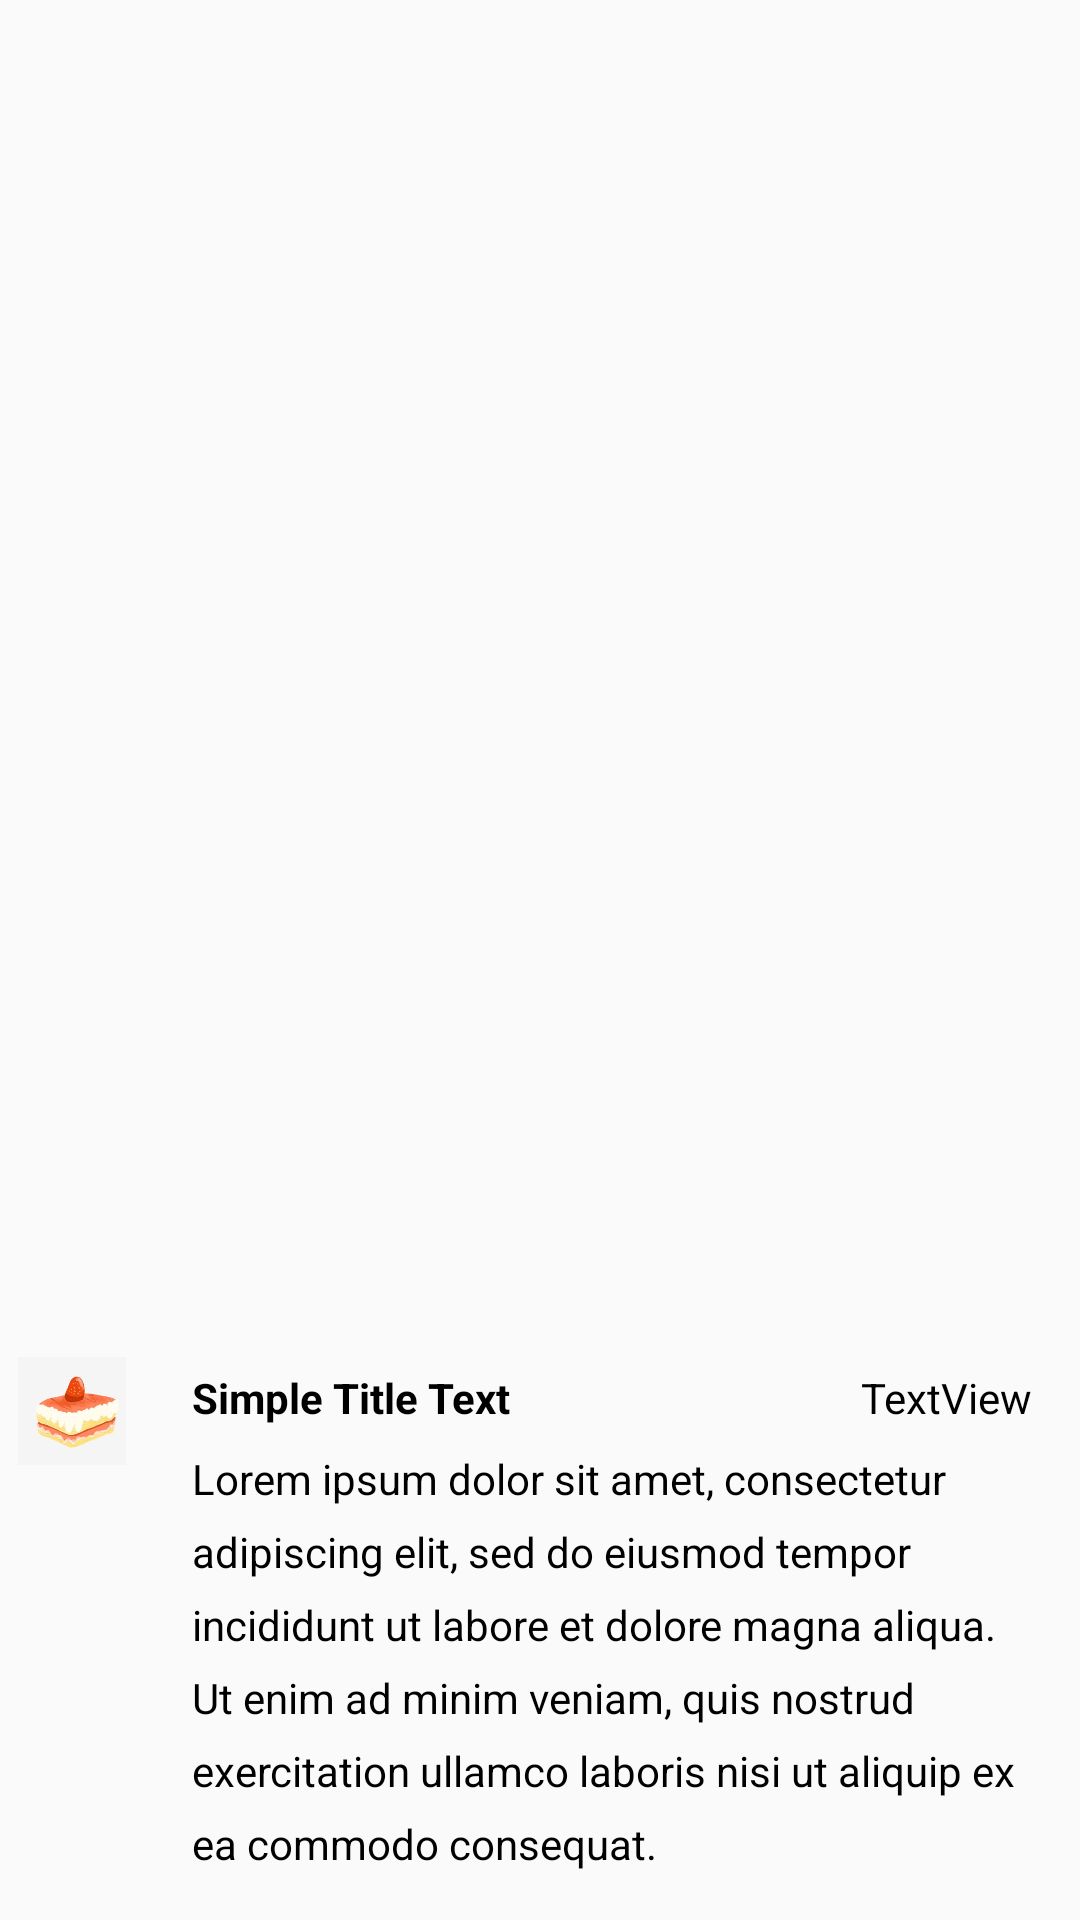

Screen size 1080px x 1920px. Icon name, then its box in pixels as (x1, y1, x2, y2):
dessert: (36, 1376, 116, 1448)
